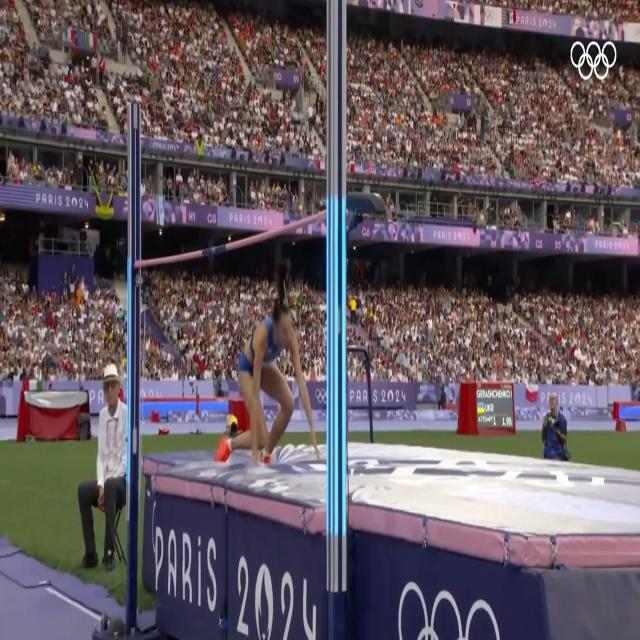land: (214, 304, 319, 465)
